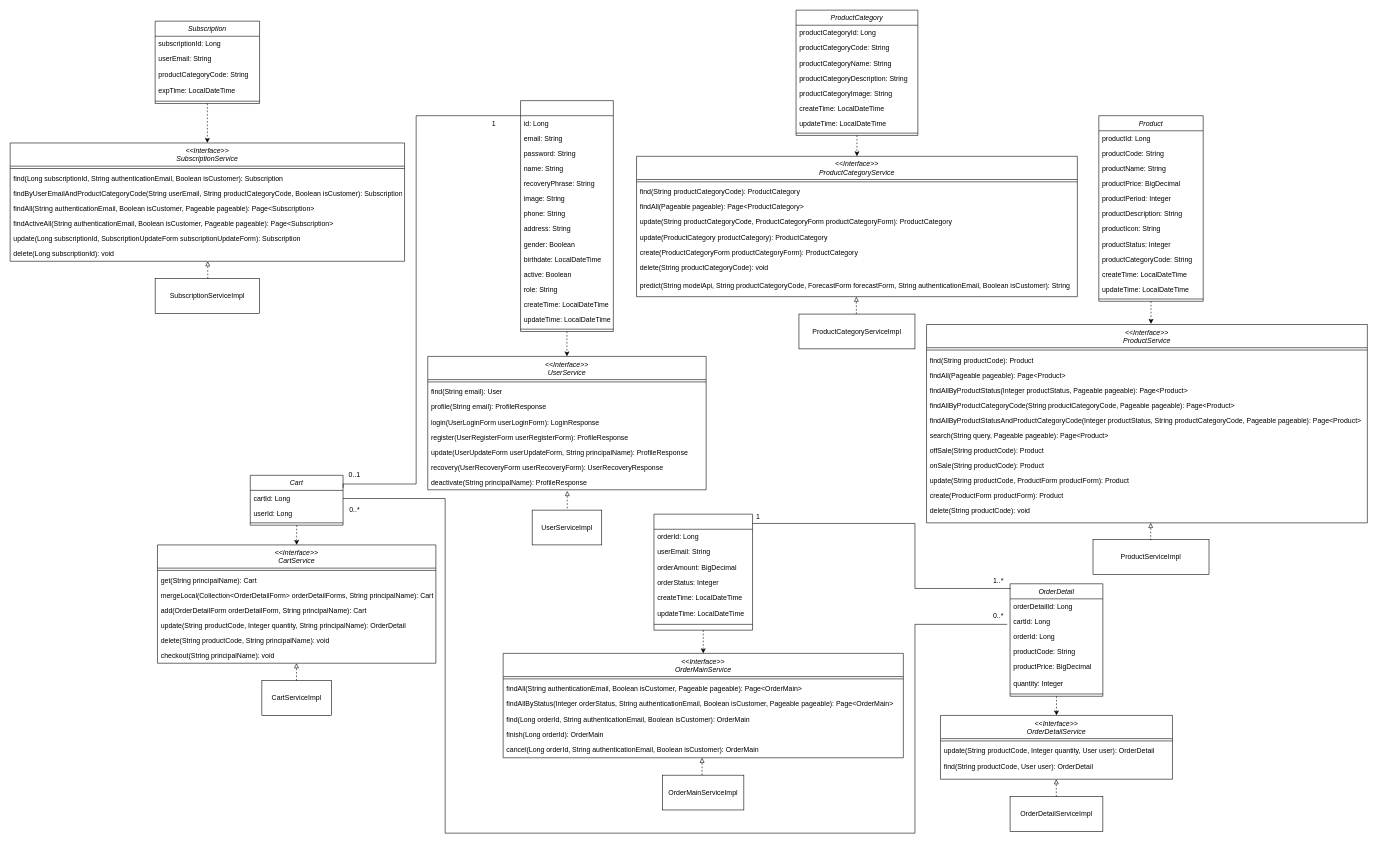
This 1378x844 diagram has some shape labels left out. The box of each missing label's shape, as (x1, y1, x2, y2) in pixels:
OrderMain: (653, 514, 753, 630)
User: (520, 100, 613, 331)
